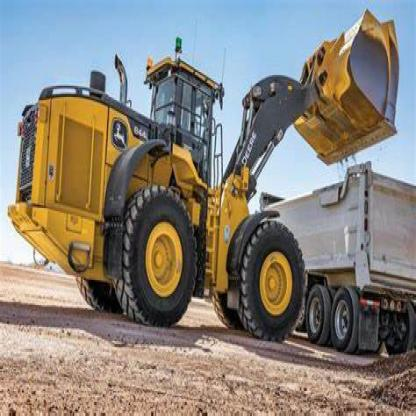bull_dozer/loader/grader: (8, 3, 401, 365)
